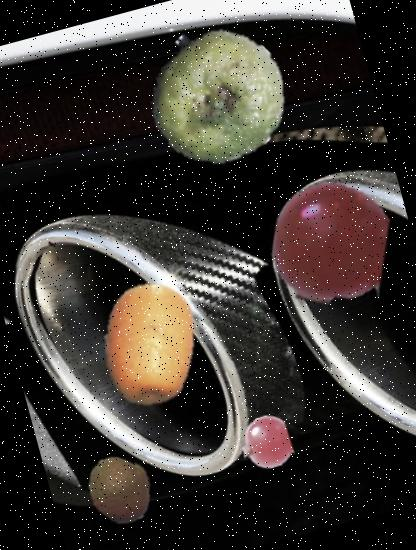Kumquats: (73, 268, 227, 422)
Limes: (134, 13, 302, 180)
Mandarine: (78, 446, 165, 533)
Redcurrant: (256, 170, 405, 318), (233, 411, 298, 475)
